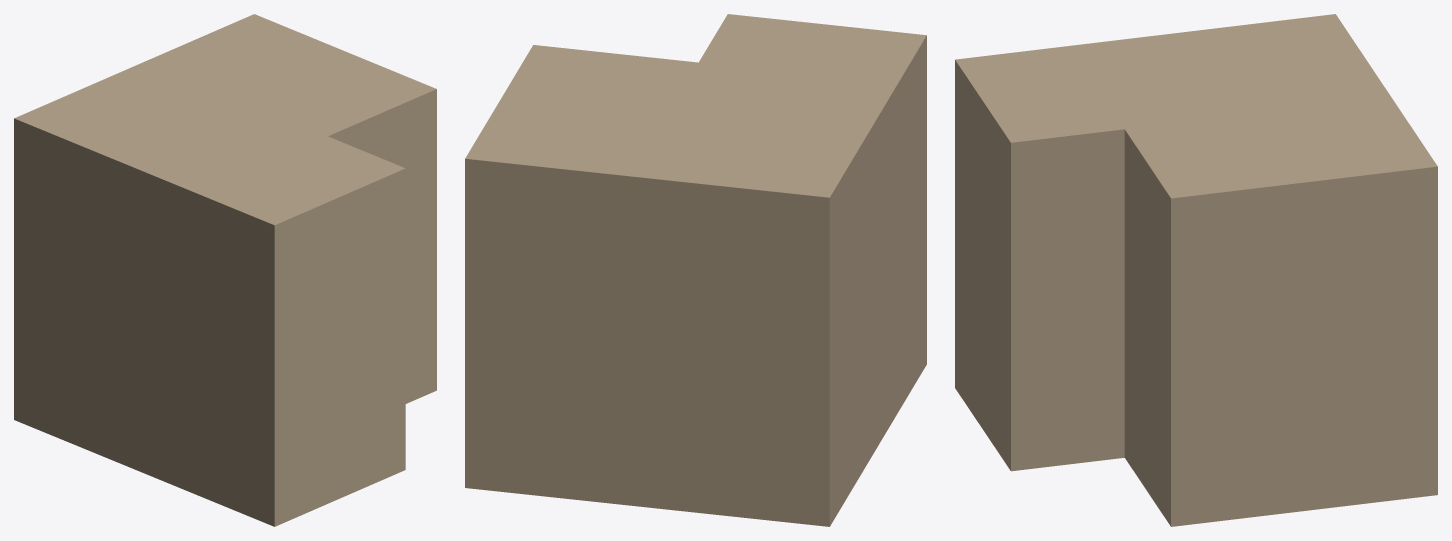
File: bld_106456053.dae
3 views of the same model, side by side, from view 1: azimuth 30°, elevation 25°; view 2: azimuth 150°, elevation 25°; view 3: azimuth 270°, elevation 25° (orthographic). The views are drawn at different scales.
Visible parts, largest first — view 1: bld_106456053; view 2: bld_106456053; view 3: bld_106456053.
Part boxes in pixels (x1,y1,x2,y2): bld_106456053: (14, 14, 436, 526); bld_106456053: (465, 14, 926, 526); bld_106456053: (955, 14, 1437, 526).
Bounding box in the file's own units: 9.64 × 10.66 × 8.
